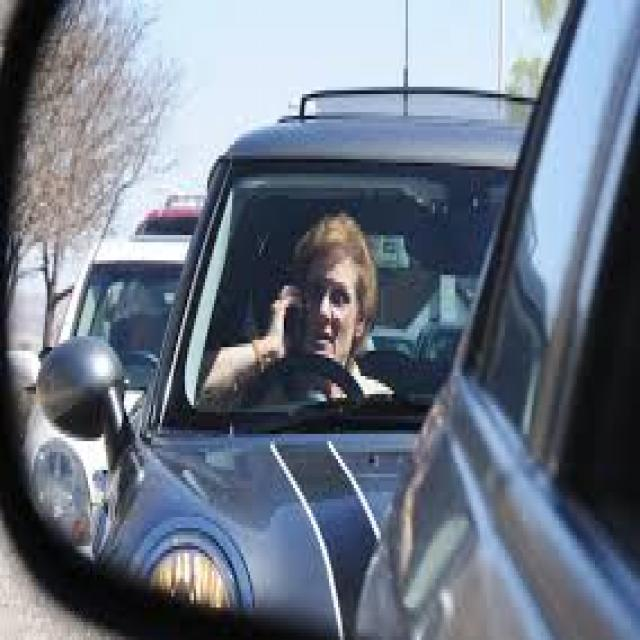Cellphone_calling: (264, 260, 316, 369)
